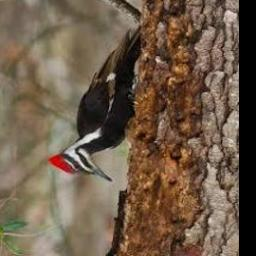Woodpecker: (49, 27, 142, 182)
